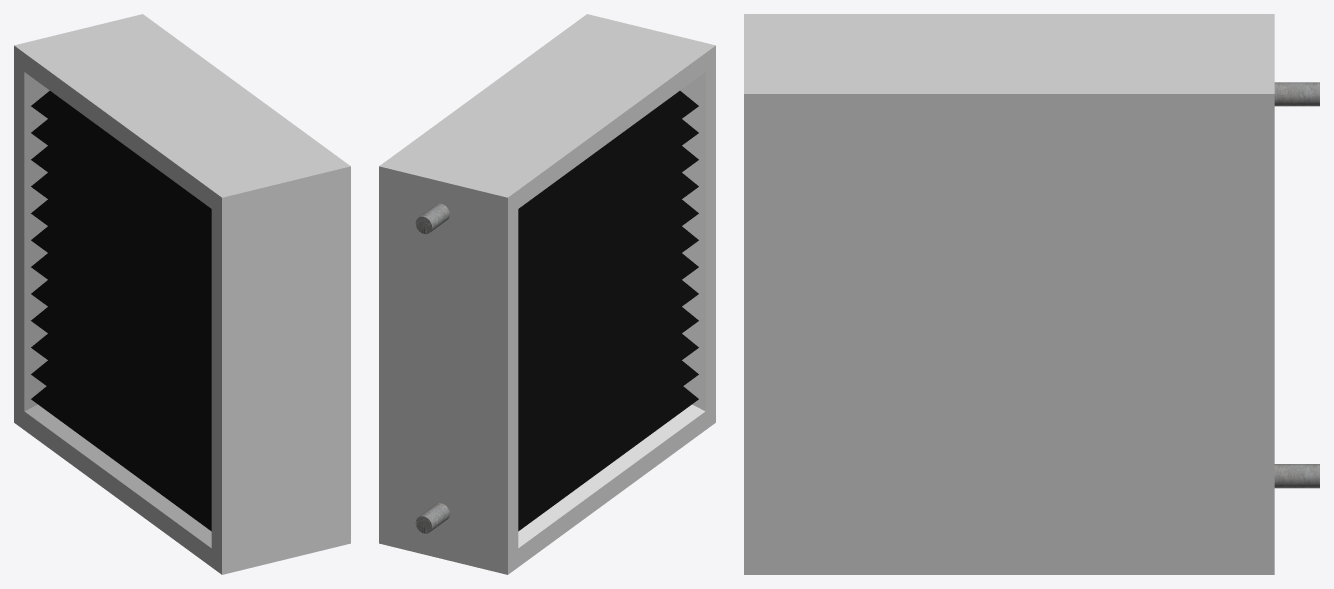
File: 6_kalorifer.FBX
3 views of the same model, side by side, from view 1: azimuth 30°, elevation 25°; view 2: azimuth 150°, elevation 25°; view 3: azimuth 270°, elevation 25° (orthographic). The views are drawn at different scales.
Visible parts, largest first — view 1: Box001, Box002, Box007, Box003, Box004, Box006, Box008, Box009, Box010, Box011, Box012, Box005 (+1 smaller); view 2: Box001, Box002, Box007, Box003, Box004, Box006, Box008, Box009, Box010, Box011, Box012, Box005 (+3 smaller); view 3: Box001, Cylinder001, Cylinder002.
Part boxes in pixels (bbox=[...]): Box001: bbox=[14, 14, 350, 574]; Box002: bbox=[31, 91, 211, 238]; Box007: bbox=[31, 226, 211, 372]; Box003: bbox=[31, 119, 211, 264]; Box004: bbox=[31, 146, 211, 291]; Box006: bbox=[31, 199, 211, 345]; Box008: bbox=[31, 253, 211, 399]; Box009: bbox=[31, 280, 211, 425]; Box010: bbox=[31, 307, 211, 452]; Box011: bbox=[31, 333, 211, 479]; Box012: bbox=[31, 360, 211, 506]; Box005: bbox=[31, 172, 211, 318]; Box001: bbox=[379, 14, 715, 574]; Box002: bbox=[518, 91, 698, 238]; Box007: bbox=[518, 226, 698, 372]; Box003: bbox=[518, 119, 698, 264]; Box004: bbox=[518, 146, 698, 291]; Box006: bbox=[518, 199, 698, 345]; Box008: bbox=[518, 253, 698, 399]; Box009: bbox=[518, 280, 698, 425]; Box010: bbox=[518, 307, 698, 452]; Box011: bbox=[518, 333, 698, 479]; Box012: bbox=[518, 360, 698, 506]; Box005: bbox=[518, 172, 698, 318]; Box001: bbox=[744, 14, 1274, 574]; Cylinder001: bbox=[1274, 82, 1319, 106]; Cylinder002: bbox=[1274, 464, 1319, 488].
Size of the model in its own units: 685 by 1917 by 2081.
3 materials, 1 textured.
